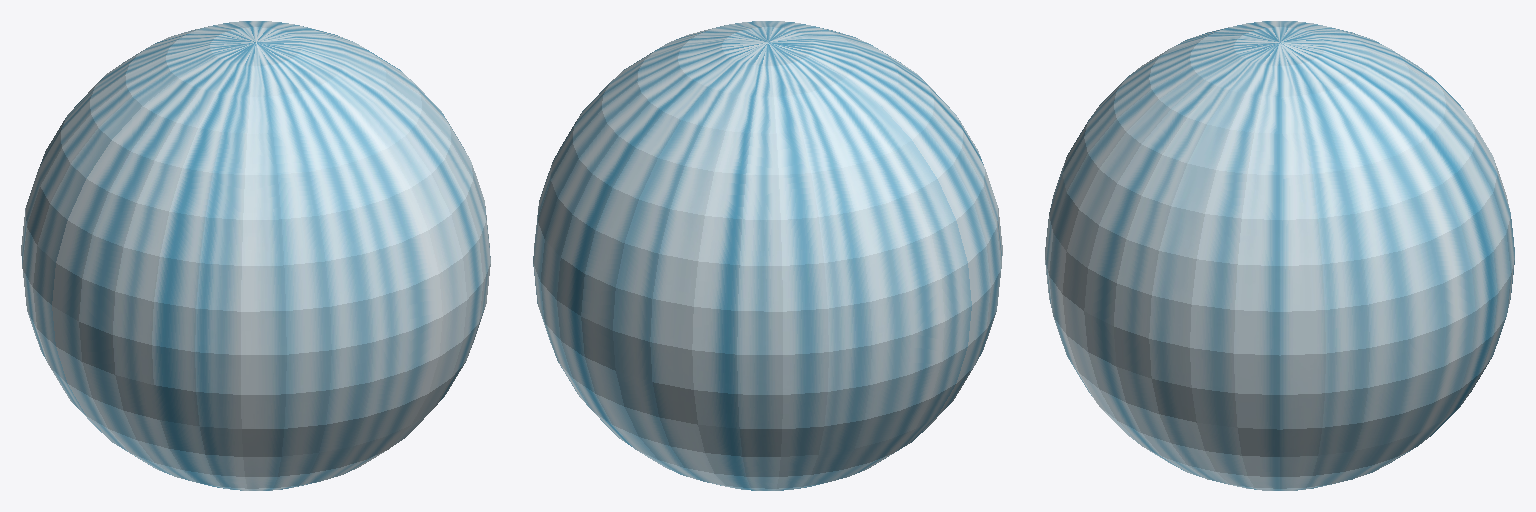
3 renders of one model, left to right at view 1: azimuth 30°, elevation 25°; view 2: azimuth 150°, elevation 25°; view 3: azimuth 270°, elevation 25°, orthographic.
Visible parts, largest first — view 1: Sphere22; view 2: Sphere22; view 3: Sphere22.
Boxes of the visible parts, x1=… form: Sphere22: x1=21, y1=21, x2=490, y2=490; Sphere22: x1=533, y1=21, x2=1002, y2=490; Sphere22: x1=1045, y1=21, x2=1514, y2=490.
Size of the model in its own units: 2 by 2 by 2.
Materials: 1 (1 with a texture image).